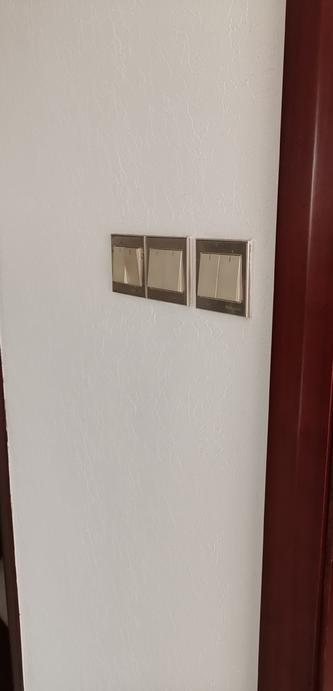switch: (219, 252, 241, 304), (196, 249, 218, 298), (164, 248, 184, 292), (127, 246, 145, 286), (148, 246, 163, 291), (108, 246, 125, 284)
